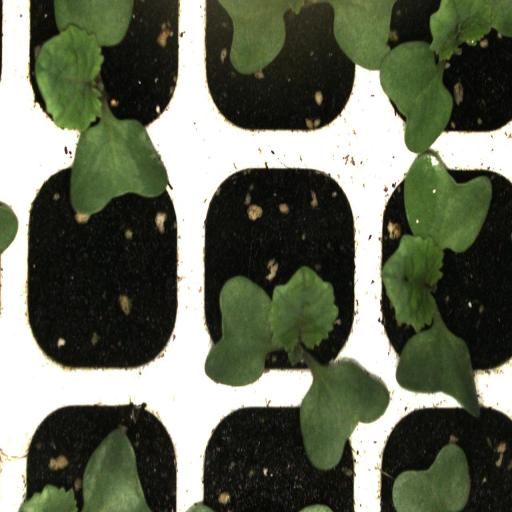noseedling: (13, 144, 191, 380)
seedling: (192, 146, 368, 384), (366, 142, 512, 384), (12, 0, 196, 143), (366, 0, 512, 139)
